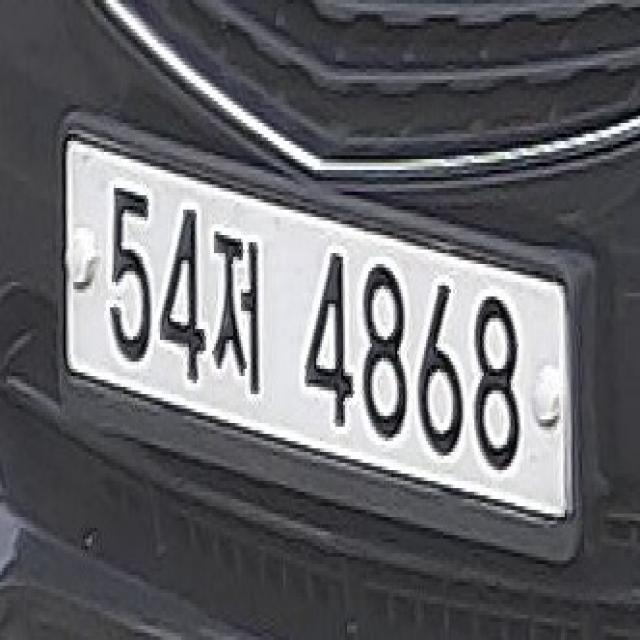4: (154, 199, 206, 398), (306, 253, 353, 430)
5: (100, 177, 156, 373)
6: (408, 268, 466, 470)
8: (356, 260, 406, 452), (474, 296, 521, 478)
jeo: (200, 224, 276, 391)
license_plate: (50, 116, 588, 560)
